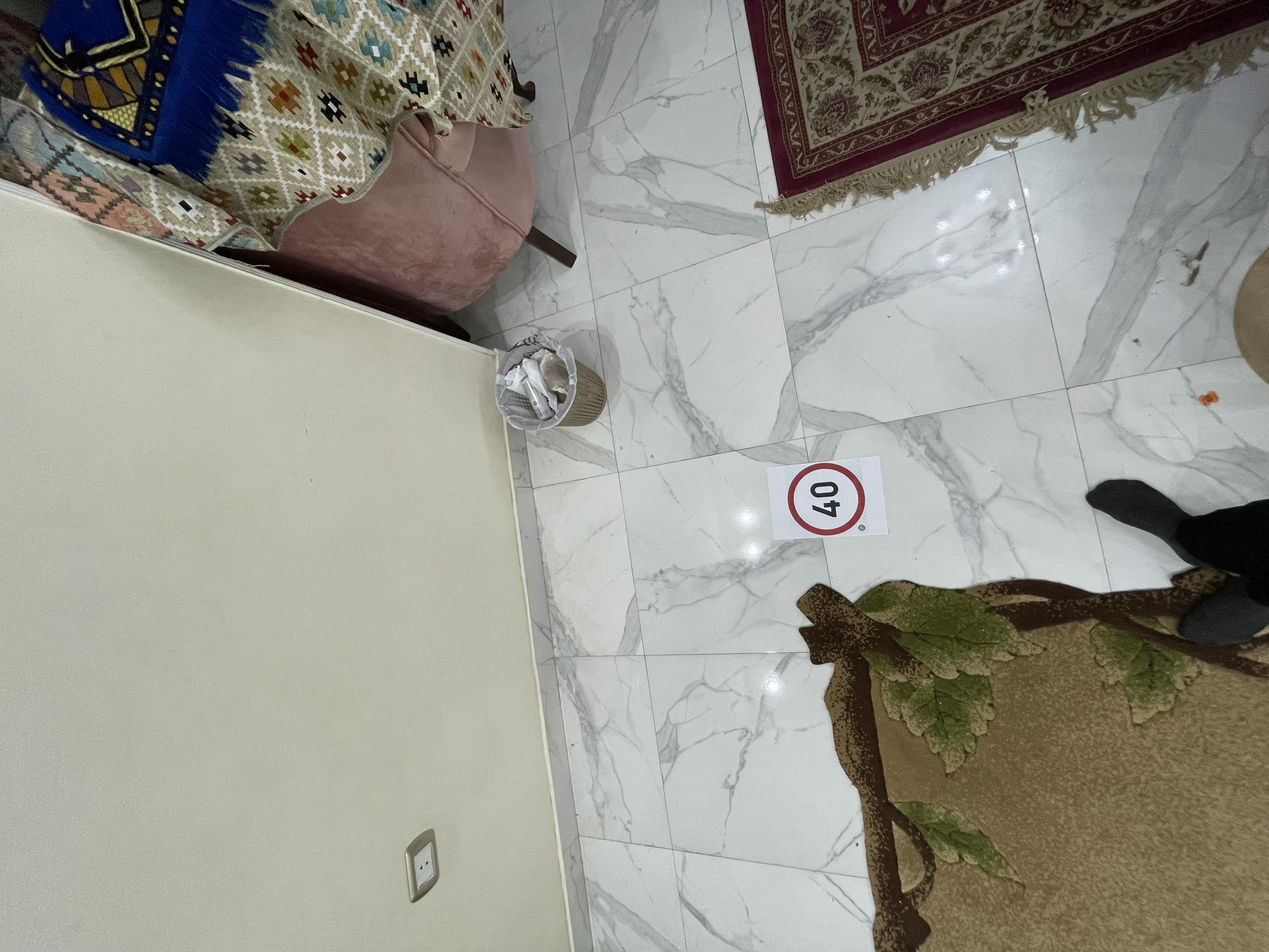40-Speed: (552, 589, 656, 650)
